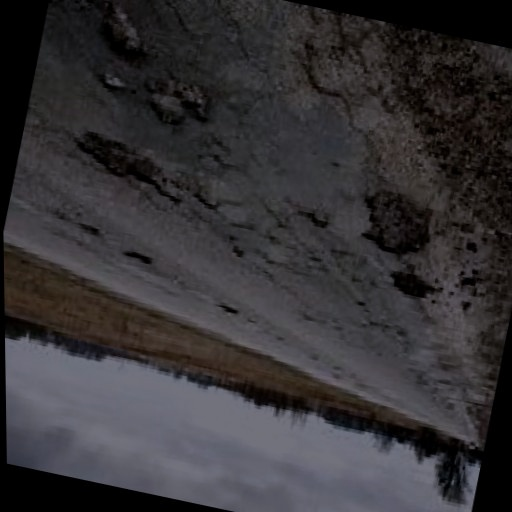pothole: (65, 130, 189, 210), (356, 187, 442, 264), (139, 72, 214, 134), (92, 0, 156, 66), (385, 268, 442, 307), (97, 73, 130, 96)
